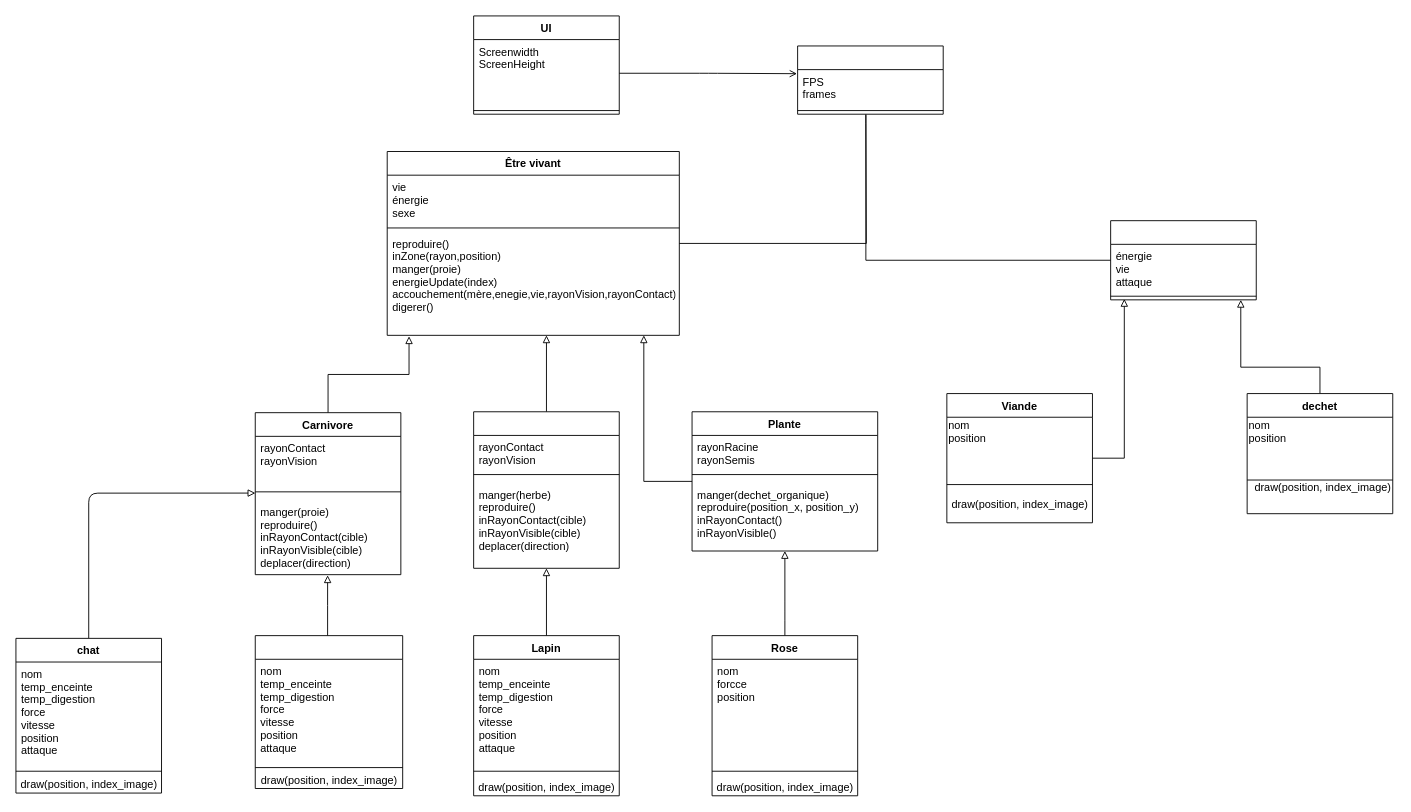
Image size: 1411x812. Some labels were removed from this diagram. Each missing label, with the box of its shape:
Herbivore: (473, 411, 619, 568)
Loup: (254, 635, 403, 789)
Main: (797, 45, 943, 114)
Objet: (1110, 220, 1256, 300)
